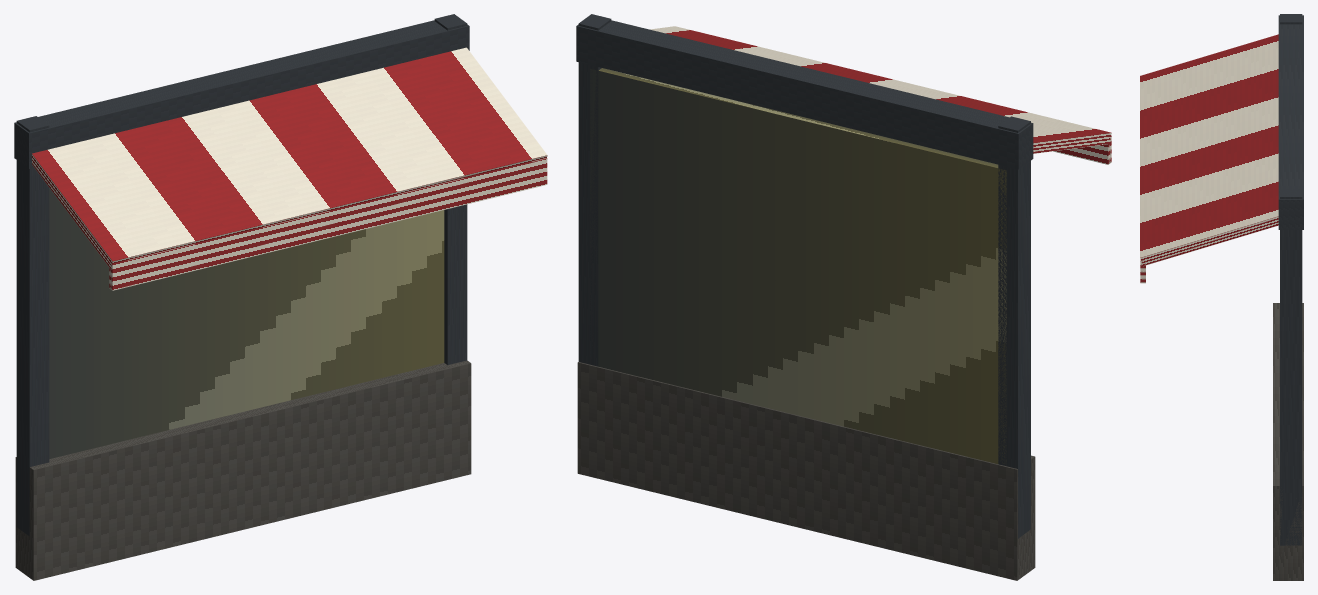
File: shopfront-awning-lod0.glb
3 renders of one model, left to right at view 1: azimuth 30°, elevation 25°; view 2: azimuth 150°, elevation 25°; view 3: azimuth 270°, elevation 25°, orthographic. The views are drawn at different scales.
Parts seen in each view (by area): view 1: shopfront-awning-lod0; view 2: shopfront-awning-lod0; view 3: shopfront-awning-lod0.
Boxes of the visible parts, x1,y1,x2,y2 form: shopfront-awning-lod0: [14, 14, 547, 580]; shopfront-awning-lod0: [576, 14, 1111, 580]; shopfront-awning-lod0: [1140, 14, 1303, 580].
Size of the model in its own units: 3.12 by 3.03 by 1.17.
Materials: 1 (1 with a texture image).
